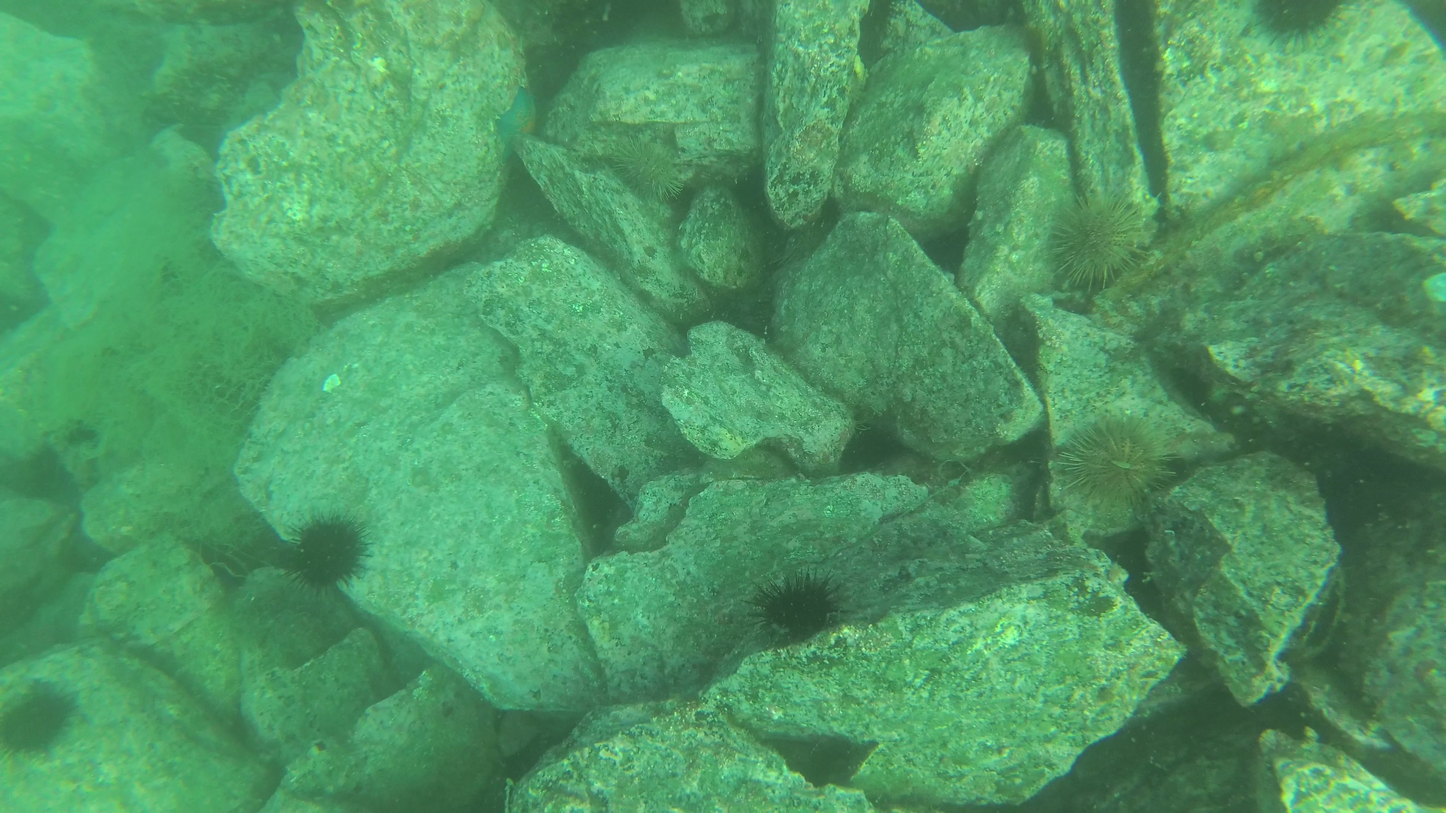holothurian: (493, 90, 540, 166)
starfish: (1068, 421, 1171, 509), (1054, 193, 1149, 287), (289, 515, 365, 589), (4, 691, 77, 761), (762, 573, 837, 635), (617, 141, 686, 207), (1257, 0, 1350, 40)
